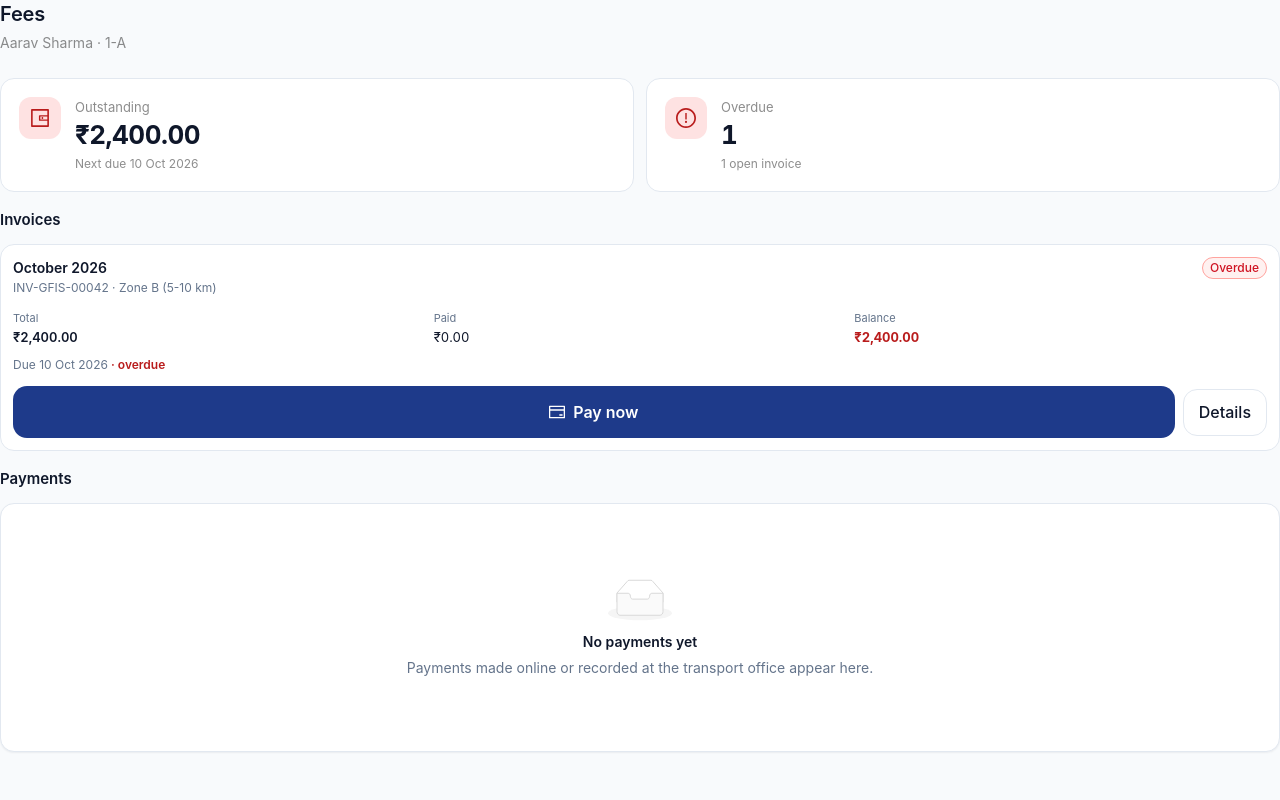
Test case: ParentFeesPage pay flow › shows the simulated gateway label and completes initiate -> checkout -> verify with a receipt
The image size is (1280, 800).
Expected: the text "October 2026" is shown, 13,259 -> 107,276
Expected: the text "1 open invoice" is shown, 721,156 -> 802,171
Click the button "Pay now" at (594, 412), box 13,386 -> 1175,438
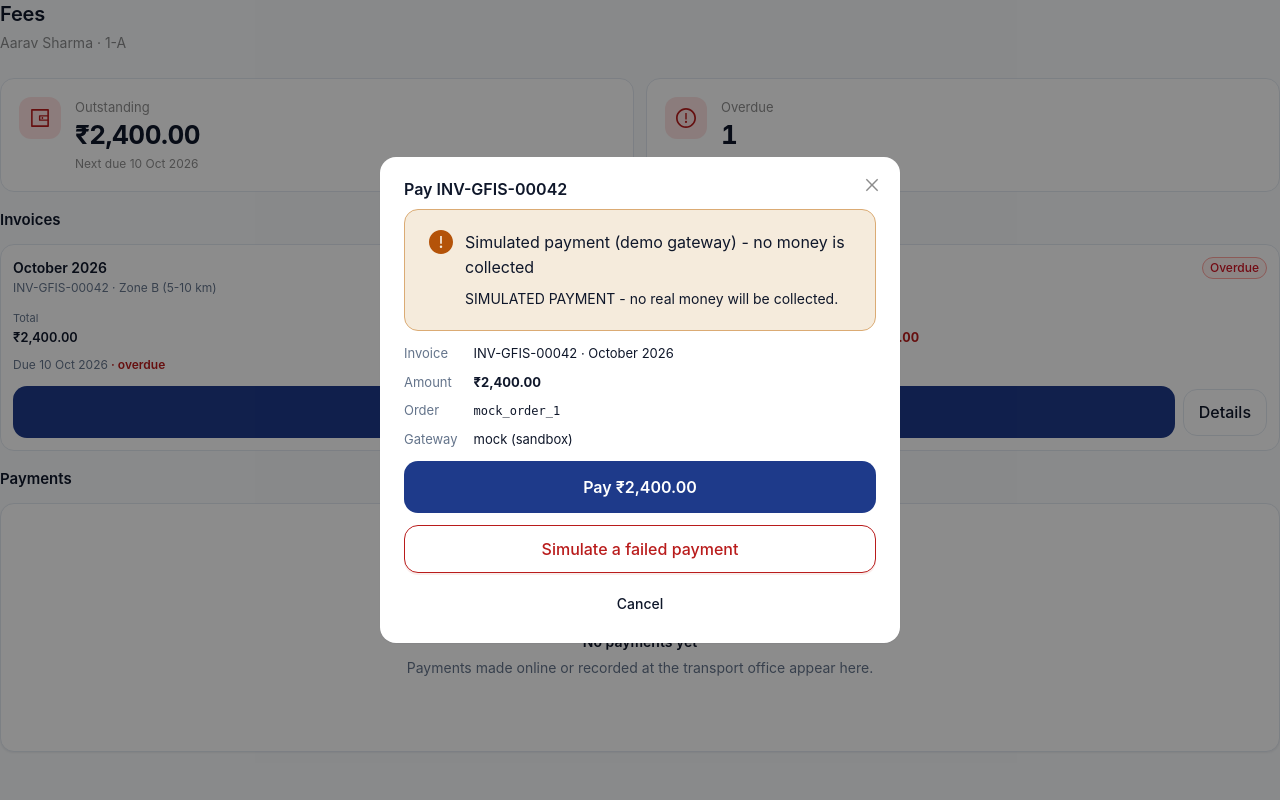
Result: the text "Simulated payment (demo gateway) - no money is collected" is shown at 465,230 -> 851,280
Result: the text "SIMULATED PAYMENT - no real money will be collected." is shown at 465,288 -> 851,310
Result: the text "mock_order_1" is shown at 474,404 -> 560,418
Click the button "Pay ₹2,400.00" at (640, 487), box 404,461 -> 876,513
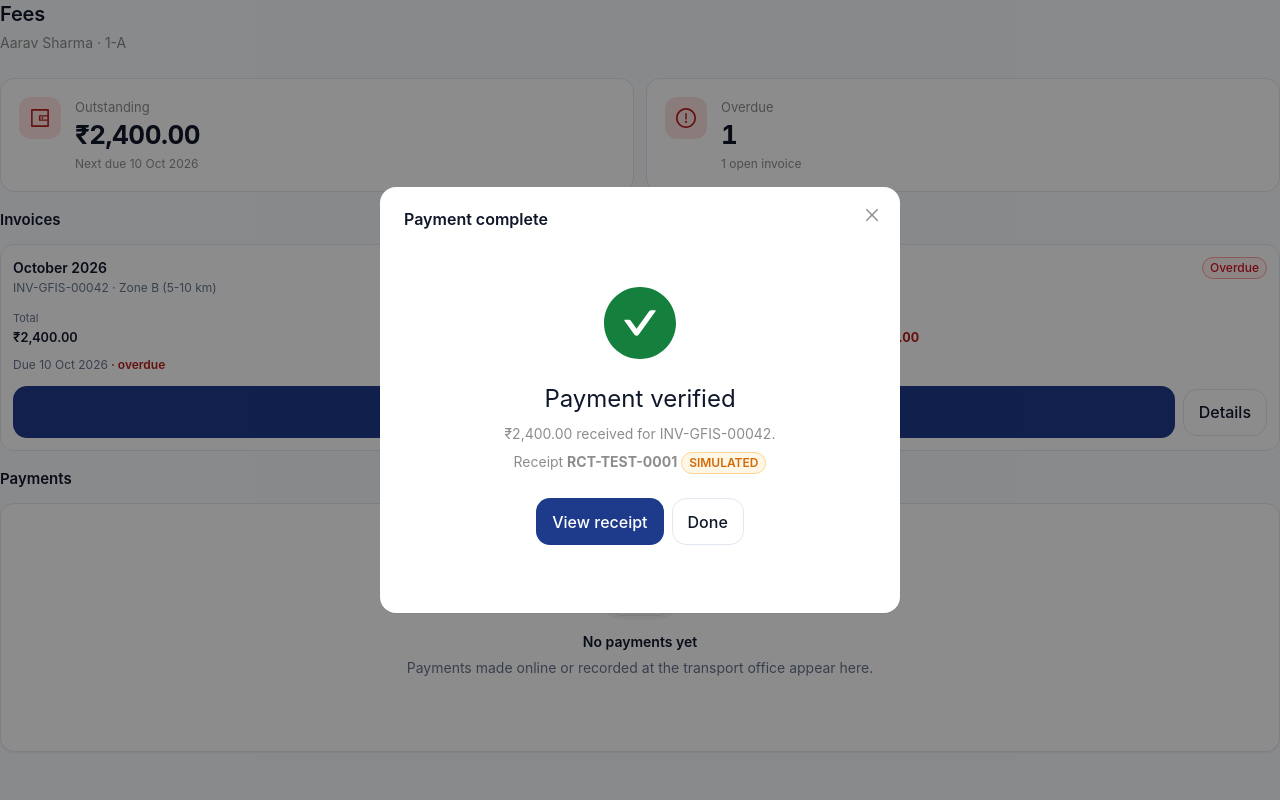
Result: the text "Payment verified" is shown at 544,384 -> 736,413
Result: the text "RCT-TEST-0001" is shown at 567,453 -> 677,470
Result: the button "View receipt" is shown at 536,498 -> 664,545
